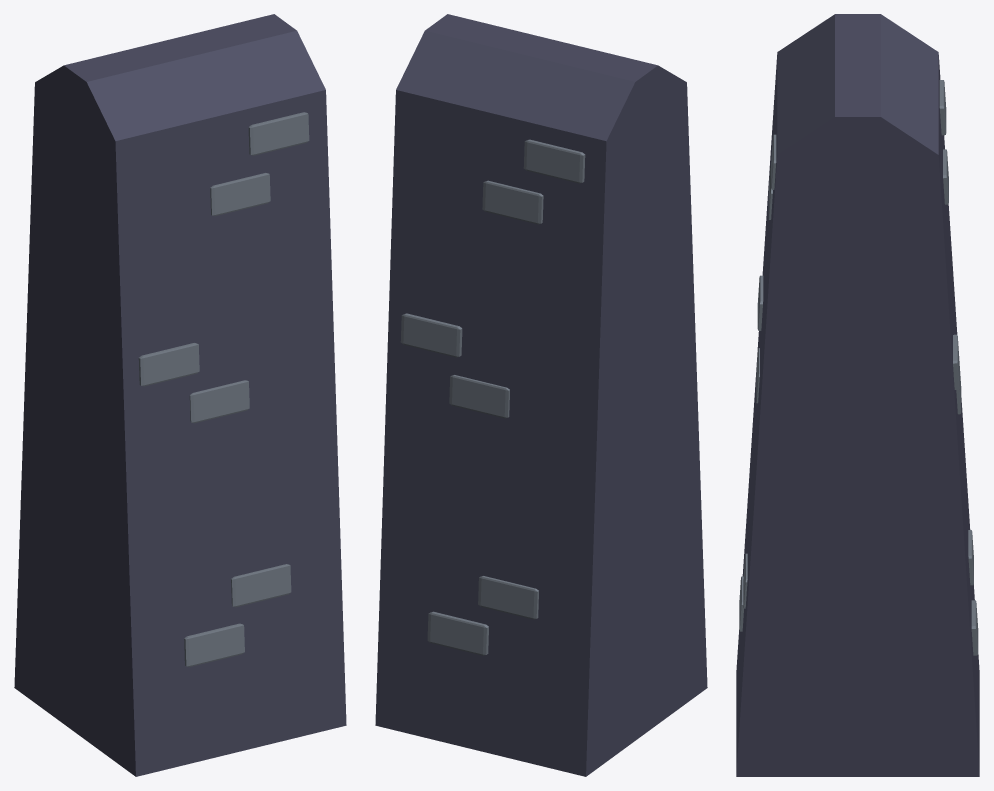
Rendered from stone_pillar.fbx.
3 renders of one model, left to right at view 1: azimuth 30°, elevation 25°; view 2: azimuth 150°, elevation 25°; view 3: azimuth 270°, elevation 25°, orthographic.
Parts seen in each view (by area): view 1: Cube.001; view 2: Cube.001; view 3: Cube.001.
Part boxes in pixels (x1,y1,x2,y2): Cube.001: (14,14,346,776); Cube.001: (375,14,707,776); Cube.001: (736,14,979,776).
Size of the model in its own units: 30.56 by 91.37 by 30.56.
